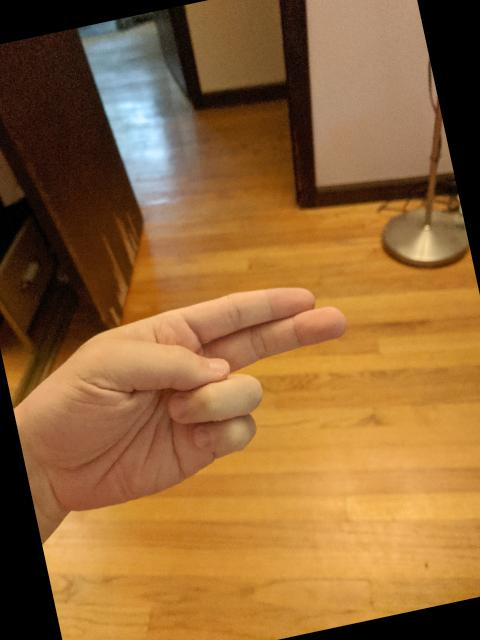H: (20, 262, 384, 523)
